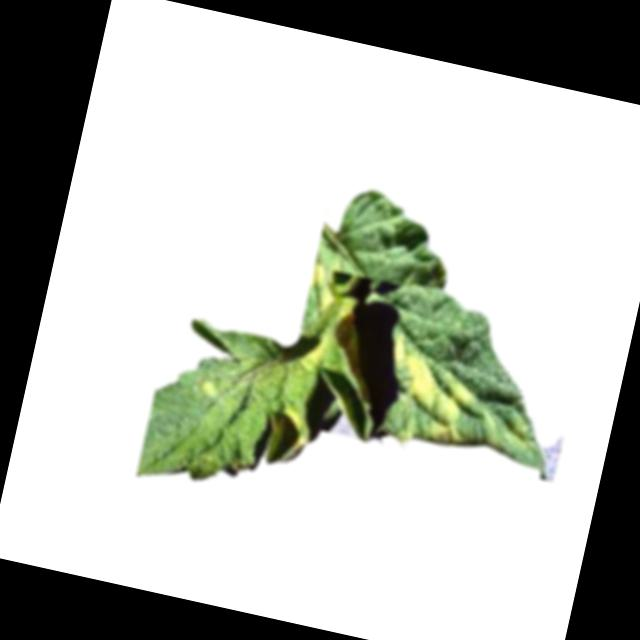Leaf_Mold: (373, 324, 487, 453), (293, 262, 390, 383), (277, 401, 312, 435)
